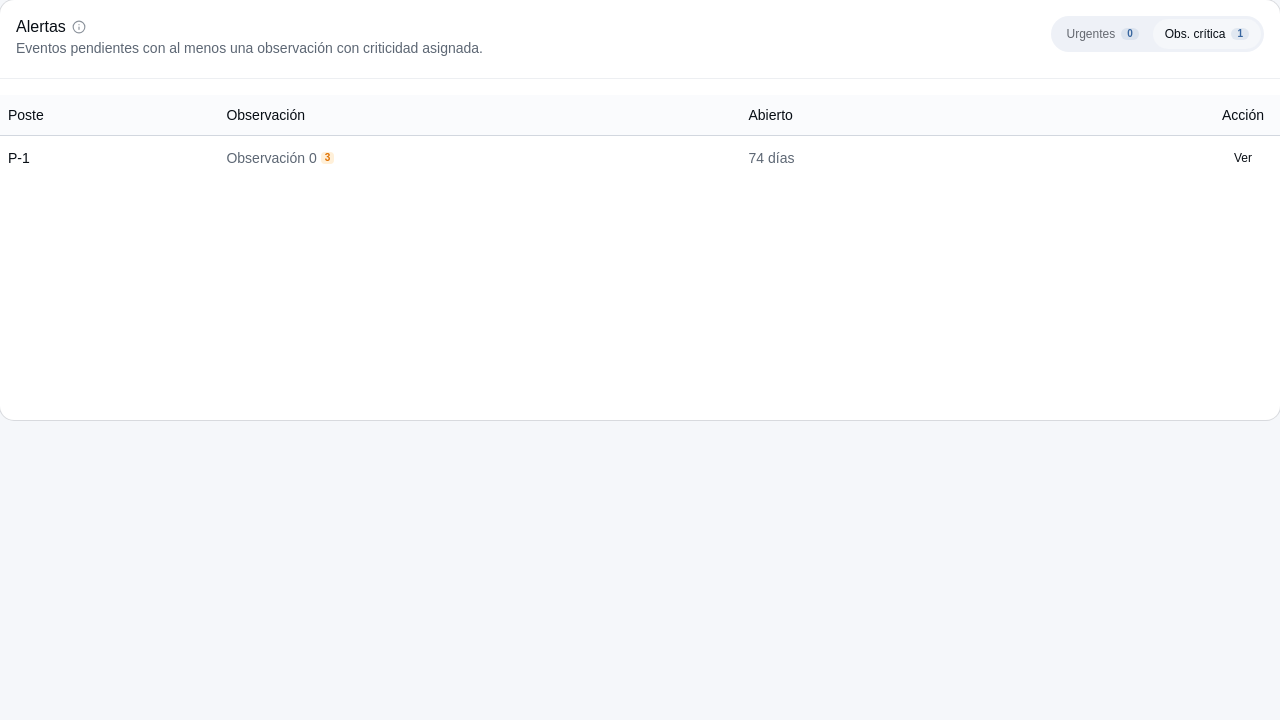
Test case: UrgentEventsCard — la explicación › se abre con un clic y explica la pestaña activa
This screenshot has width=1280, height=720.
Click the button named "¿Qué eventos aparecen aquí?".
click(79, 27)  # box [72,20,86,34]
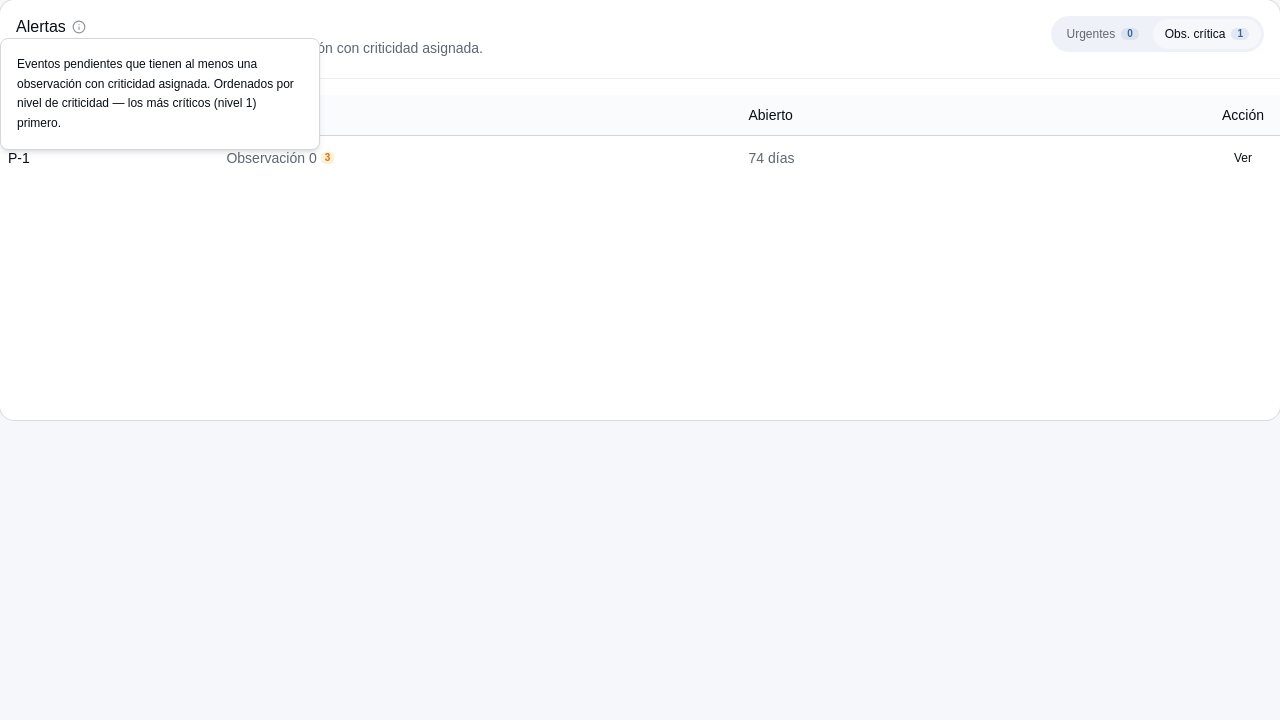
Check: the text "los más críticos (nivel 1) primero" is shown, box [17,57,294,130]
Click the button named "¿Qué eventos aparecen aquí?".
click(79, 27)  # box [72,20,86,34]
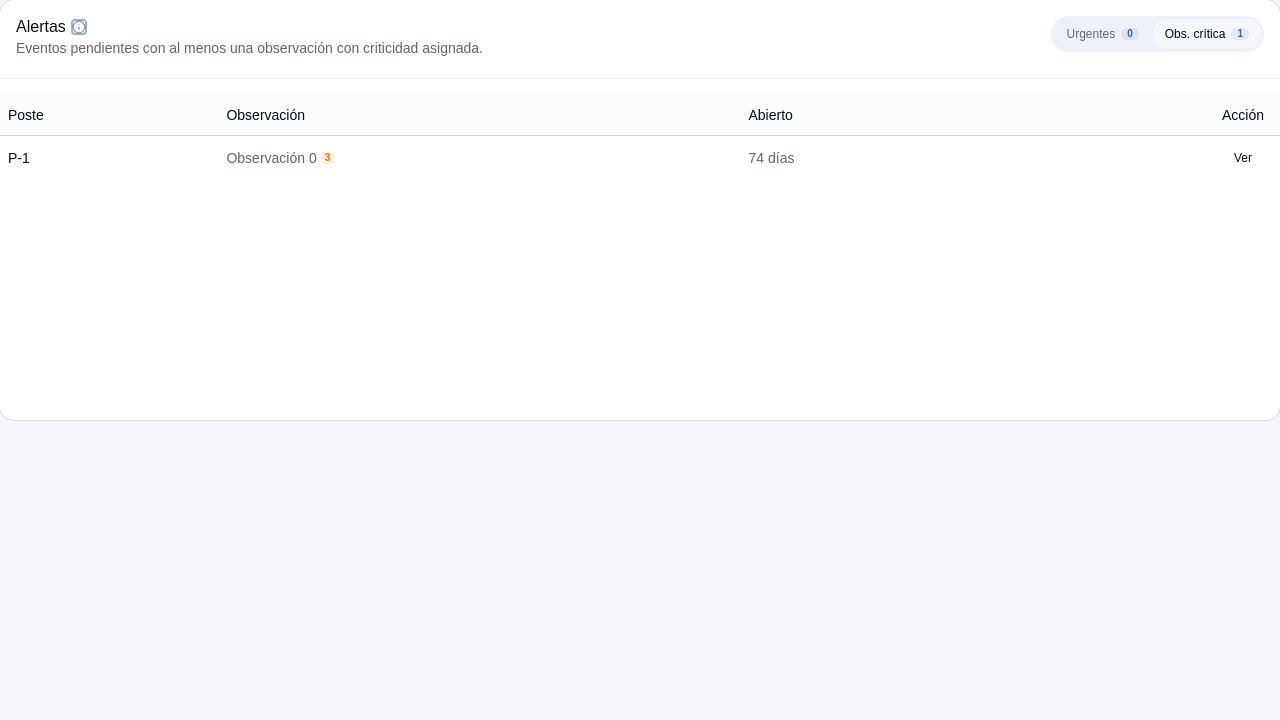
Check: the text "los más críticos (nivel 1) primero" is gone
